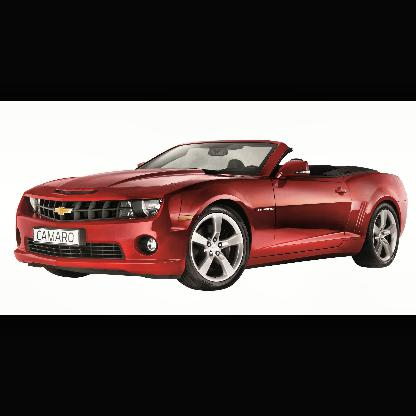Chevrolet Camaro Convertible 2012: (14, 139, 408, 295)
